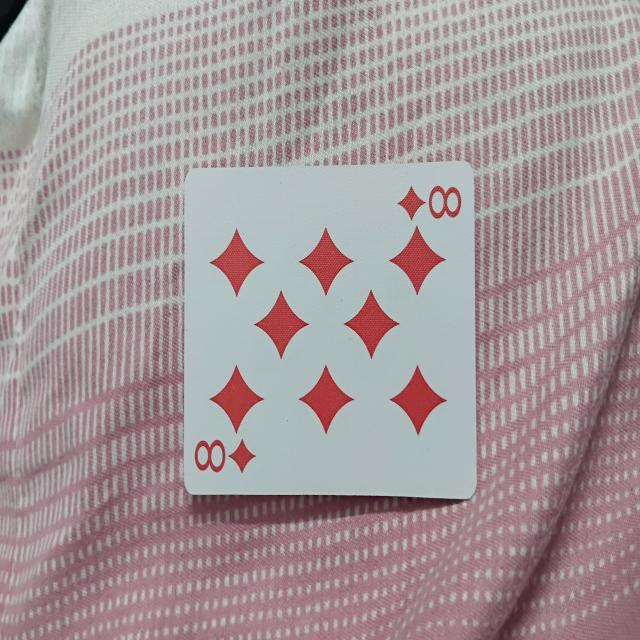8D: (184, 172, 478, 500)
